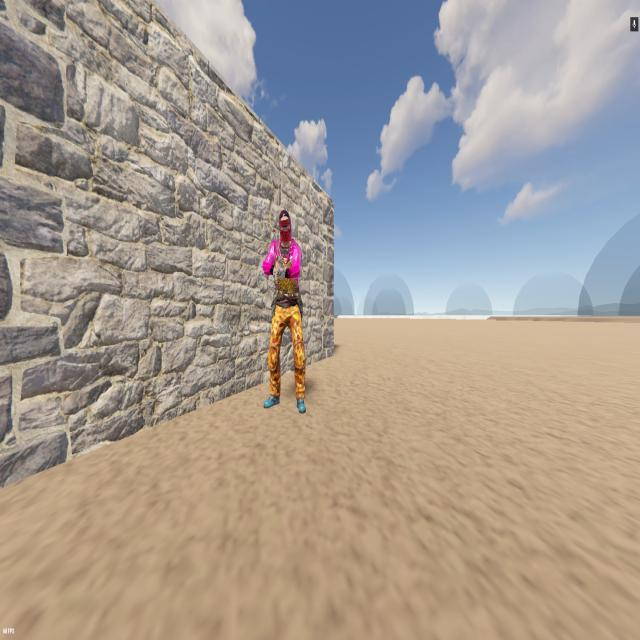Player: (259, 208, 310, 420)
